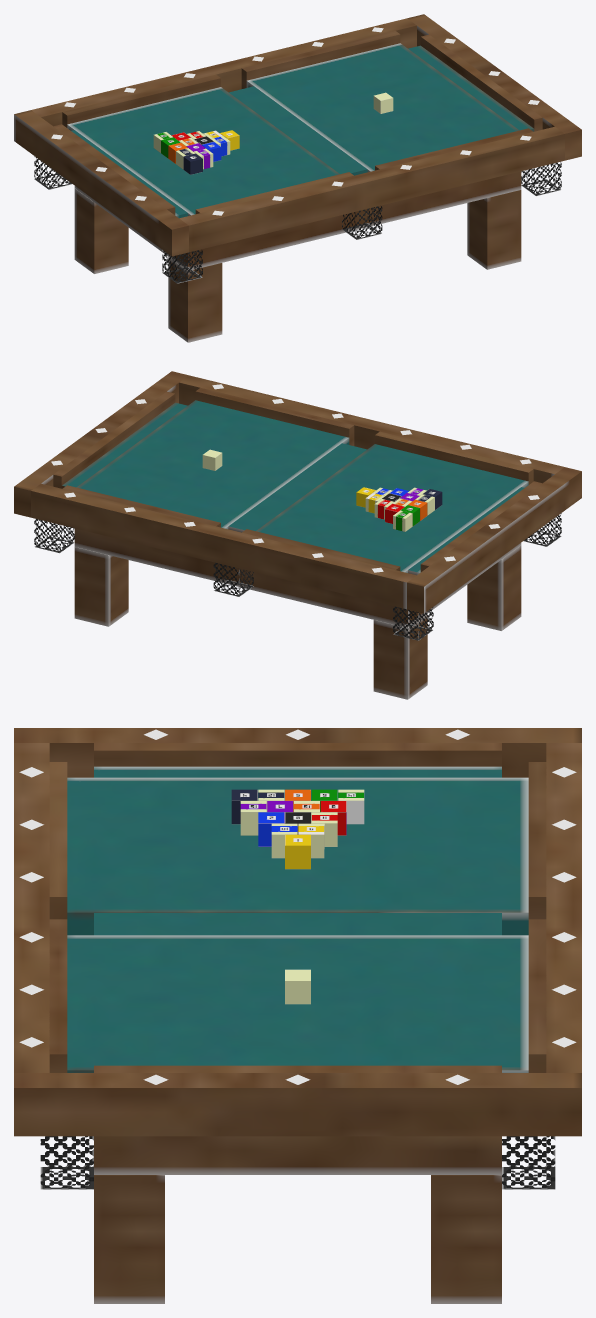
File: billard_table.obj
3 views of the same model, one above another, from view 1: azimuth 30°, elevation 25°; view 2: azimuth 150°, elevation 25°; view 3: azimuth 270°, elevation 25° (orthographic). The views are drawn at different scales.
Visible parts, largest first — view 1: basea, baseb, frontwall, rightwall, base2, base, backwall, leg4, leg1, leg3, lefttwall, backwalla (+9 smaller); view 2: basea, baseb, backwall, rightwall, base2, base, frontwall, leg2, leg3, leg4, lefttwall, frontwalla (+9 smaller); view 3: basea, baseb, lefttwall, base2, base, frontwall, backwall, rightwall, rightwallb, leg1, leg2, leftwallb (+10 smaller).
Boxes of the visible parts, bbox=[...] form: basea: bbox=[246, 43, 519, 172]; baseb: bbox=[67, 87, 339, 215]; frontwall: bbox=[179, 126, 564, 252]; rightwall: bbox=[14, 110, 188, 256]; base2: bbox=[74, 171, 521, 270]; base: bbox=[71, 45, 534, 218]; backwall: bbox=[31, 18, 416, 126]; leg4: bbox=[168, 257, 222, 342]; leg1: bbox=[467, 190, 521, 269]; leg3: bbox=[74, 188, 128, 273]; lefttwall: bbox=[407, 14, 581, 160]; backwalla: bbox=[241, 31, 400, 88]; basea: bbox=[76, 400, 349, 529]; baseb: bbox=[256, 444, 528, 572]; backwall: bbox=[31, 483, 416, 609]; rightwall: bbox=[407, 467, 581, 613]; base2: bbox=[74, 528, 521, 627]; base: bbox=[61, 402, 524, 575]; frontwall: bbox=[179, 375, 564, 483]; leg2: bbox=[74, 547, 128, 626]; leg3: bbox=[373, 614, 427, 699]; leg4: bbox=[467, 545, 521, 630]; lefttwall: bbox=[14, 371, 188, 517]; frontwalla: bbox=[195, 388, 354, 445]; basea: bbox=[67, 935, 528, 1072]; baseb: bbox=[67, 777, 528, 935]; lefttwall: bbox=[14, 1073, 581, 1136]; base2: bbox=[94, 1136, 501, 1174]; base: bbox=[94, 766, 501, 935]; frontwall: bbox=[14, 743, 49, 1072]; backwall: bbox=[546, 743, 581, 1072]; rightwall: bbox=[14, 728, 581, 777]; rightwallb: bbox=[94, 743, 501, 766]; leg1: bbox=[94, 1175, 164, 1303]; leg2: bbox=[431, 1175, 501, 1303]; leftwallb: bbox=[94, 1065, 501, 1072].
Size of the model in its own units: 3 by 0.9997 by 2.
